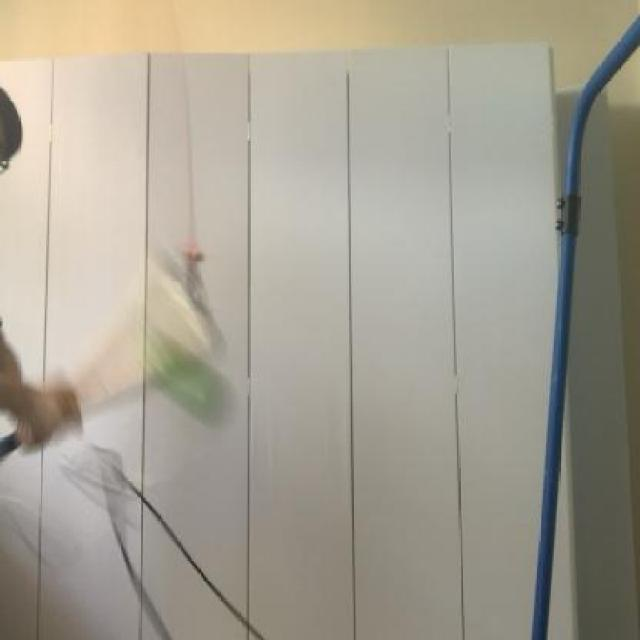baseball: (126, 326, 240, 434)
